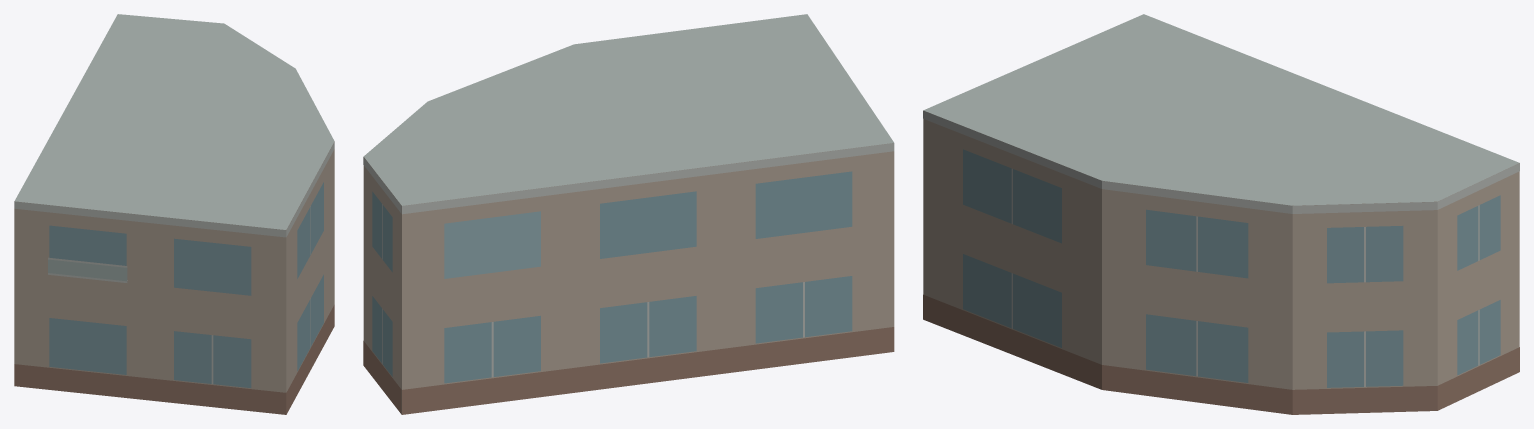
The model's file is survey-upis-32655362.glb.
The picture shows the model from 3 angles, left to right: view 1: azimuth 30°, elevation 25°; view 2: azimuth 150°, elevation 25°; view 3: azimuth 270°, elevation 25°; orthographic projection. The views are drawn at different scales.
Visible parts, largest first — view 1: survey-upis-32655362.tmp; view 2: survey-upis-32655362.tmp; view 3: survey-upis-32655362.tmp.
Part boxes in pixels (x1,y1,x2,y2): survey-upis-32655362.tmp: (14,14,334,414); survey-upis-32655362.tmp: (363,14,894,414); survey-upis-32655362.tmp: (923,14,1519,414).
Bounding box in the file's own units: 12 × 6.1 × 15.78.
